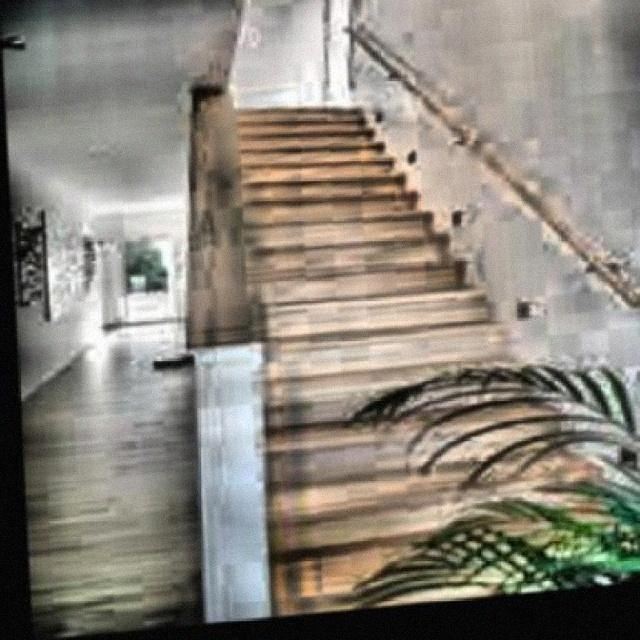stair: (114, 66, 638, 608)
